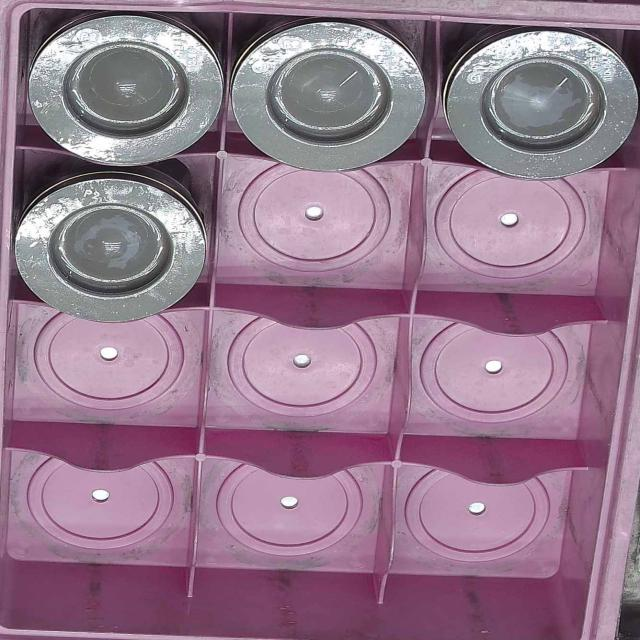P2: (35, 20, 224, 164), (239, 25, 422, 172), (17, 178, 196, 318), (452, 35, 628, 177)
